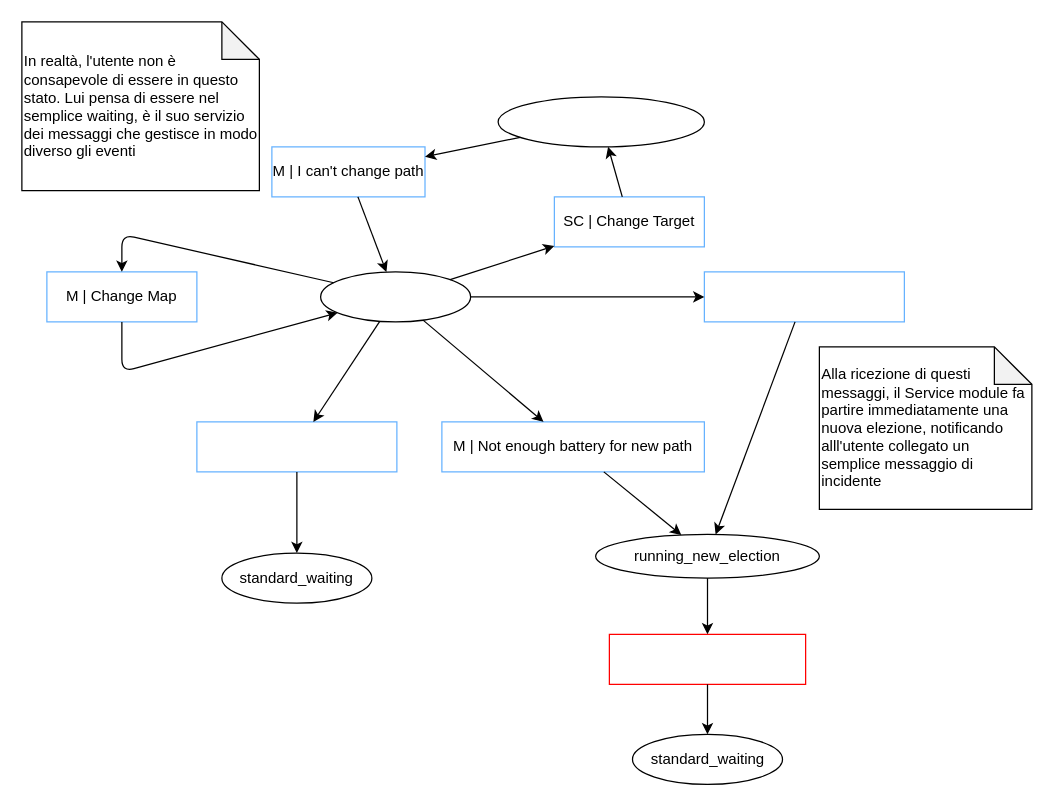
Image size: 1054x806. Some labels were removed from this diagram. The centre of each missing label's shape, as x and y in pixels:
change_dest_wait: the point at 600,121
M | Car Crash: the point at 803,296
M | Taxi serving Me: the point at 296,446
ME | Begin Election User: the point at 707,658
waiting_car_queue: the point at 395,296
